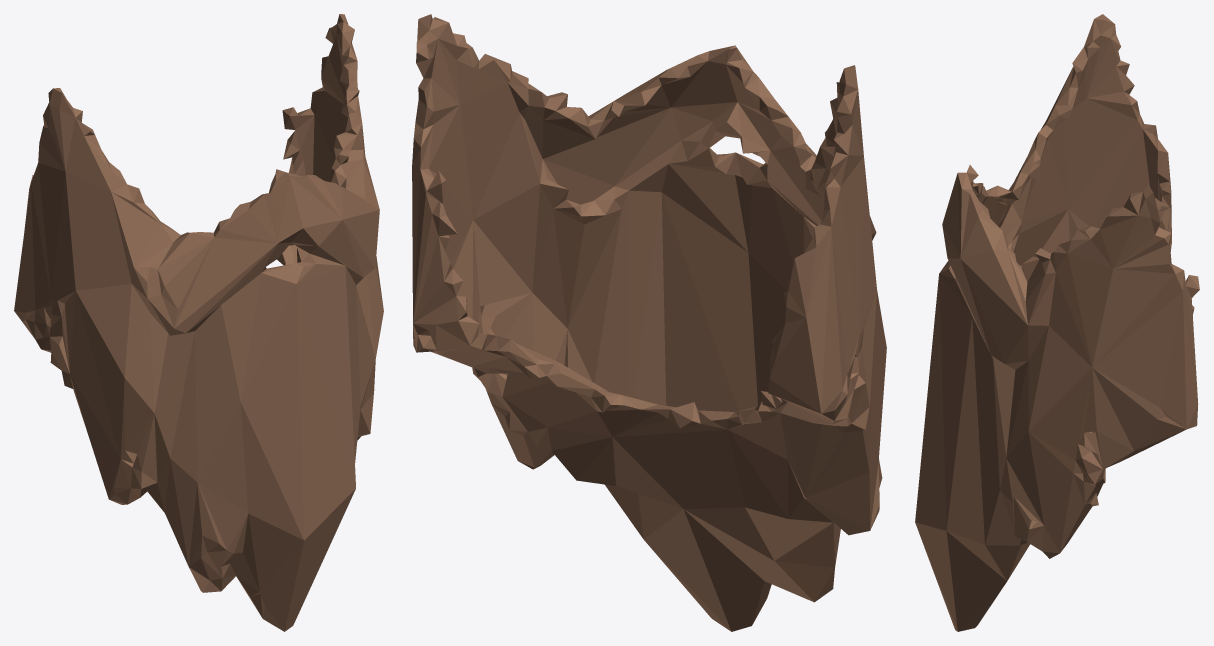
File: Beard_long_LOD2.glb
3 views of the same model, side by side, from view 1: azimuth 30°, elevation 25°; view 2: azimuth 150°, elevation 25°; view 3: azimuth 270°, elevation 25° (orthographic). The views are drawn at different scales.
Parts seen in each view (by area): view 1: Beard_long_LOD2; view 2: Beard_long_LOD2; view 3: Beard_long_LOD2.
Part boxes in pixels (x1=…): Beard_long_LOD2: x1=14, y1=14, x2=383, y2=631; Beard_long_LOD2: x1=412, y1=14, x2=886, y2=631; Beard_long_LOD2: x1=915, y1=14, x2=1199, y2=631.
Bounding box in the file's own units: 0.1832 × 0.2833 × 0.1361.
